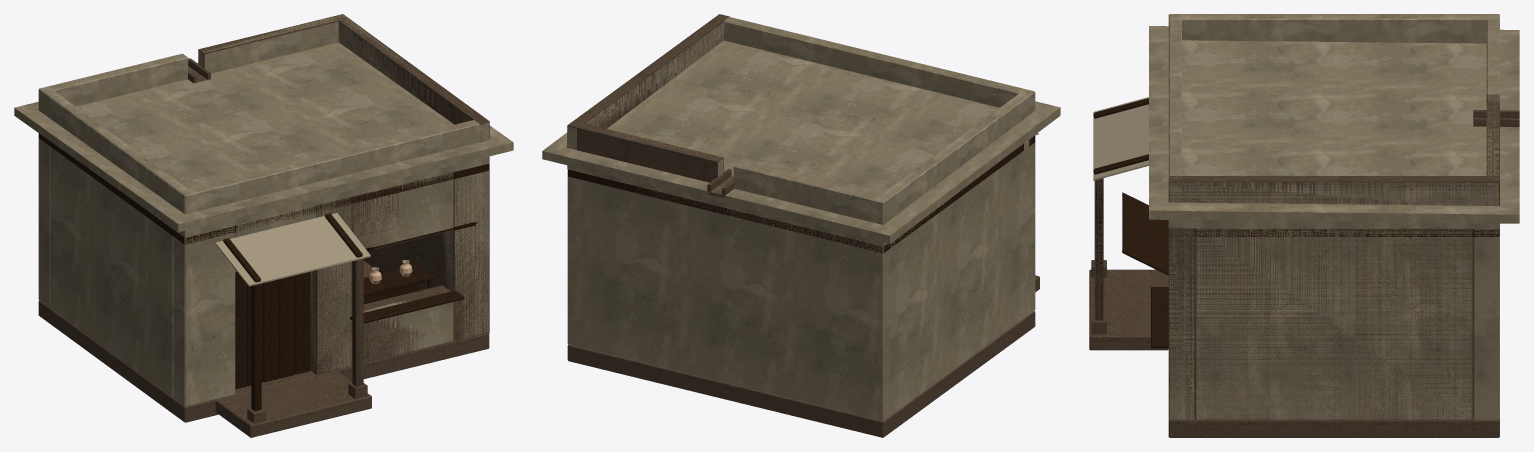
The model's file is d_shop_6x5.glb.
3 renders of one model, left to right at view 1: azimuth 30°, elevation 25°; view 2: azimuth 150°, elevation 25°; view 3: azimuth 270°, elevation 25°, orthographic. The views are drawn at different scales.
Visible parts, largest first — view 1: front wall, foundation, window sill, entry shade, front wall-colonly.001, front wall-colonly.004, side parapet-colonly.001, front wall-colonly.002, side wall-colonly.001, front wall-colonly.003, Door plank.004, Door plank.003 (+6 smaller); view 2: front wall, foundation, rear parapet-colonly.001, side parapet-colonly.001, window sill; view 3: front wall, side wall-colonly.001, foundation, window sill, side parapet-colonly.001, front wall-colonly.004, entry shade, canopy post-colonly.001, rear parapet-colonly.001.
Part boxes in pixels (left/top/right/bottom): front wall: left=14, top=14, right=513, bottom=406; foundation: left=38, top=58, right=489, bottom=437; window sill: left=38, top=133, right=488, bottom=411; entry shade: left=215, top=213, right=370, bottom=286; front wall-colonly.001: left=310, top=196, right=352, bottom=374; front wall-colonly.004: left=442, top=163, right=489, bottom=341; side parapet-colonly.001: left=333, top=15, right=489, bottom=142; front wall-colonly.002: left=363, top=285, right=454, bottom=363; side wall-colonly.001: left=363, top=233, right=442, bottom=290; front wall-colonly.003: left=352, top=172, right=454, bottom=249; Door plank.004: left=294, top=272, right=310, bottom=374; Door plank.003: left=279, top=275, right=294, bottom=378; front wall: left=542, top=16, right=1060, bottom=421; foundation: left=567, top=168, right=1039, bottom=437; rear parapet-colonly.001: left=567, top=121, right=723, bottom=182; side parapet-colonly.001: left=568, top=14, right=729, bottom=150; window sill: left=568, top=135, right=1035, bottom=253; front wall: left=1149, top=14, right=1519, bottom=419; side wall-colonly.001: left=1195, top=228, right=1473, bottom=420; foundation: left=1089, top=110, right=1519, bottom=437; window sill: left=1093, top=98, right=1499, bottom=348; side parapet-colonly.001: left=1168, top=176, right=1499, bottom=205; front wall-colonly.004: left=1168, top=228, right=1195, bottom=420; entry shade: left=1093, top=97, right=1148, bottom=180; canopy post-colonly.001: left=1094, top=178, right=1103, bottom=320; rear parapet-colonly.001: left=1486, top=101, right=1499, bottom=205.
Size of what is drawn, in the model's own units: 6.6 by 4.28 by 6.5.
7 materials, 3 textured.
